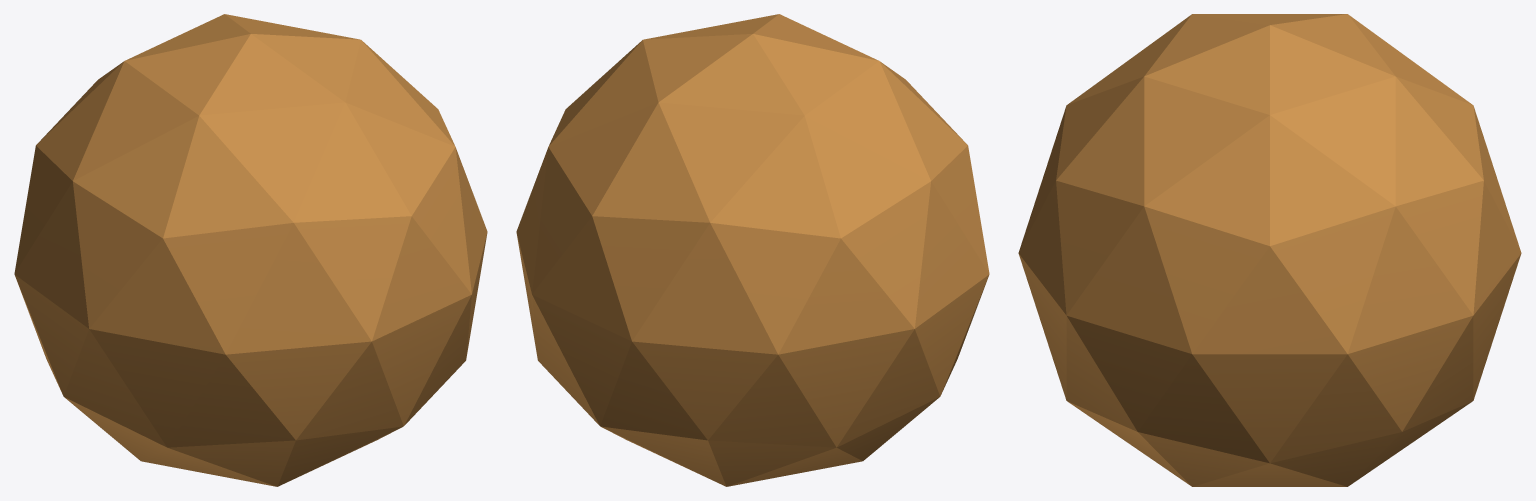
The model's file is tee_marker_ball_gold.glb.
The picture shows the model from 3 angles, left to right: view 1: azimuth 30°, elevation 25°; view 2: azimuth 150°, elevation 25°; view 3: azimuth 270°, elevation 25°; orthographic projection. The views are drawn at different scales.
Parts seen in each view (by area): view 1: Body; view 2: Body; view 3: Body.
Boxes of the visible parts, box(x1,y1,x2,y2) form: Body: box(14, 14, 487, 486); Body: box(516, 14, 989, 486); Body: box(1018, 14, 1521, 486).
Size of the model in its own units: 0.5516 by 0.53 by 0.58.
Materials: 1 (1 with a texture image).
